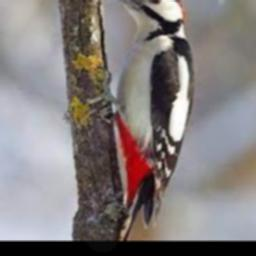Woodpecker: (93, 0, 195, 241)
